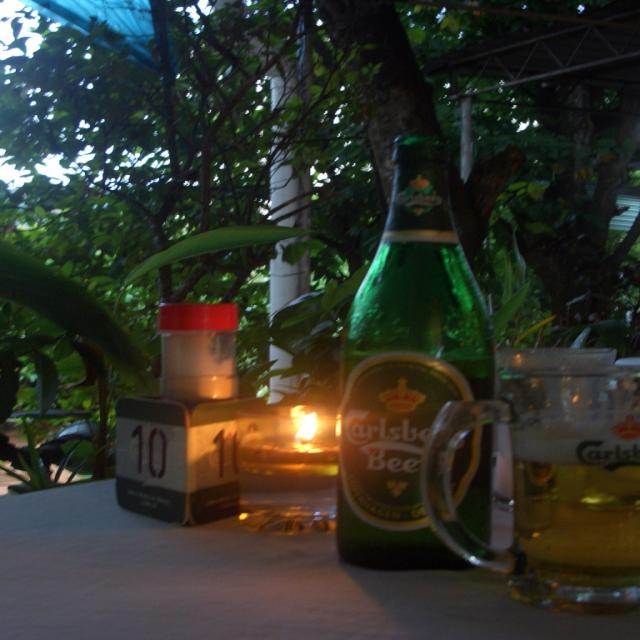carlsberg: (334, 357, 466, 532), (393, 173, 447, 218)
